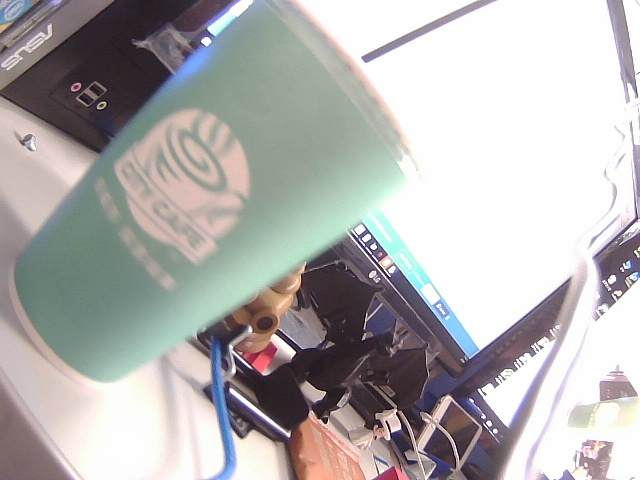beverage: (7, 2, 504, 416)
